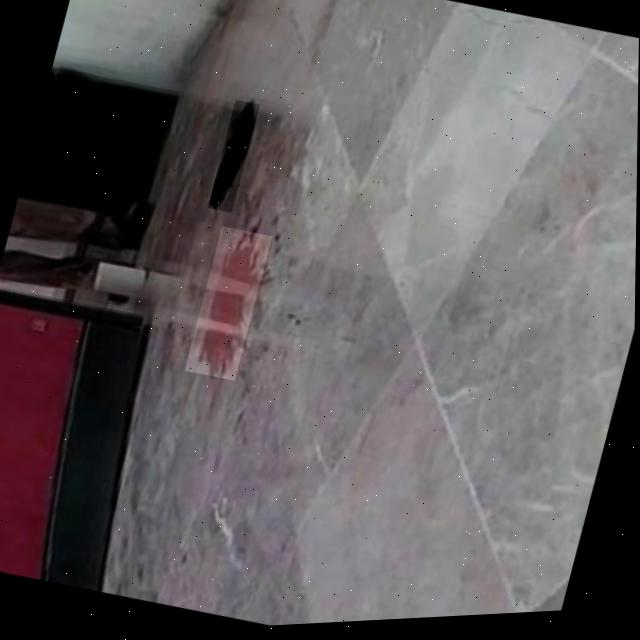spillage: (198, 234, 262, 380), (211, 105, 255, 210)
